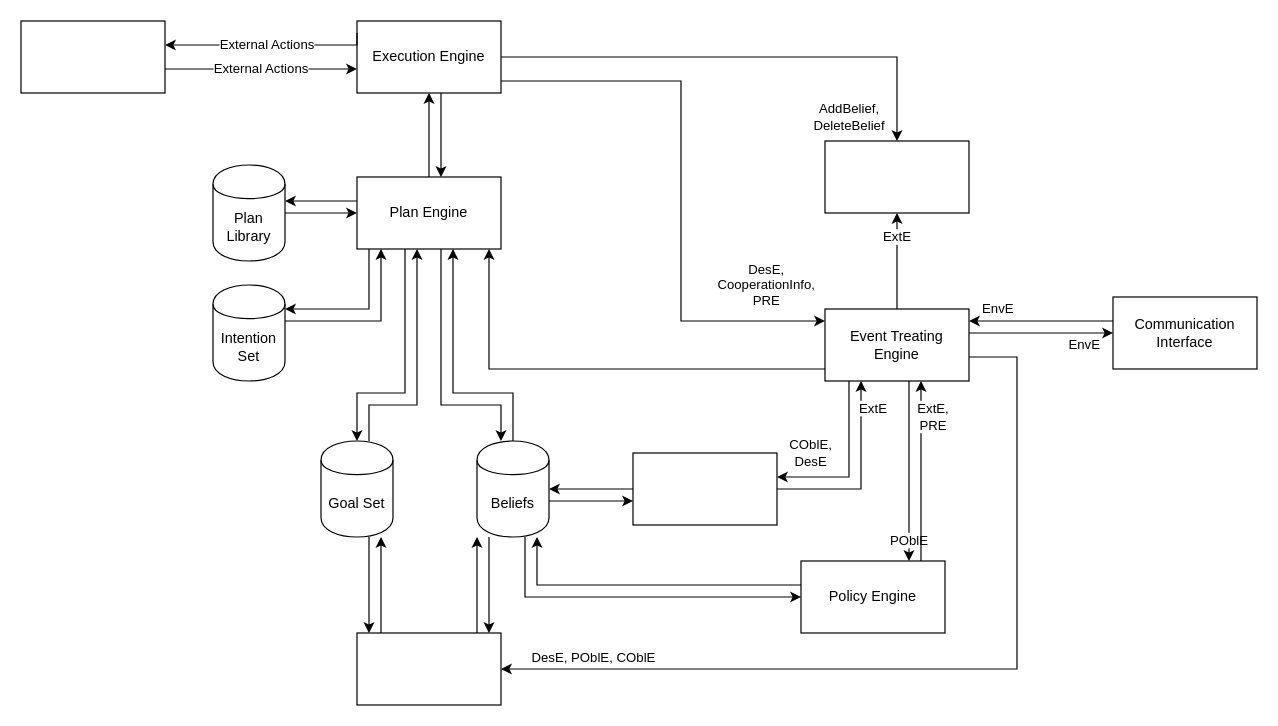
This 1278x726 diagram has some shape labels left out. Here are the shapes that lost their labels. From the top down, the centre of each, then its label:
(x=92, y=56): Domain Interface
(x=896, y=176): Belief Update
(x=704, y=488): Contract Engine
(x=428, y=668): Goal Maintenance
